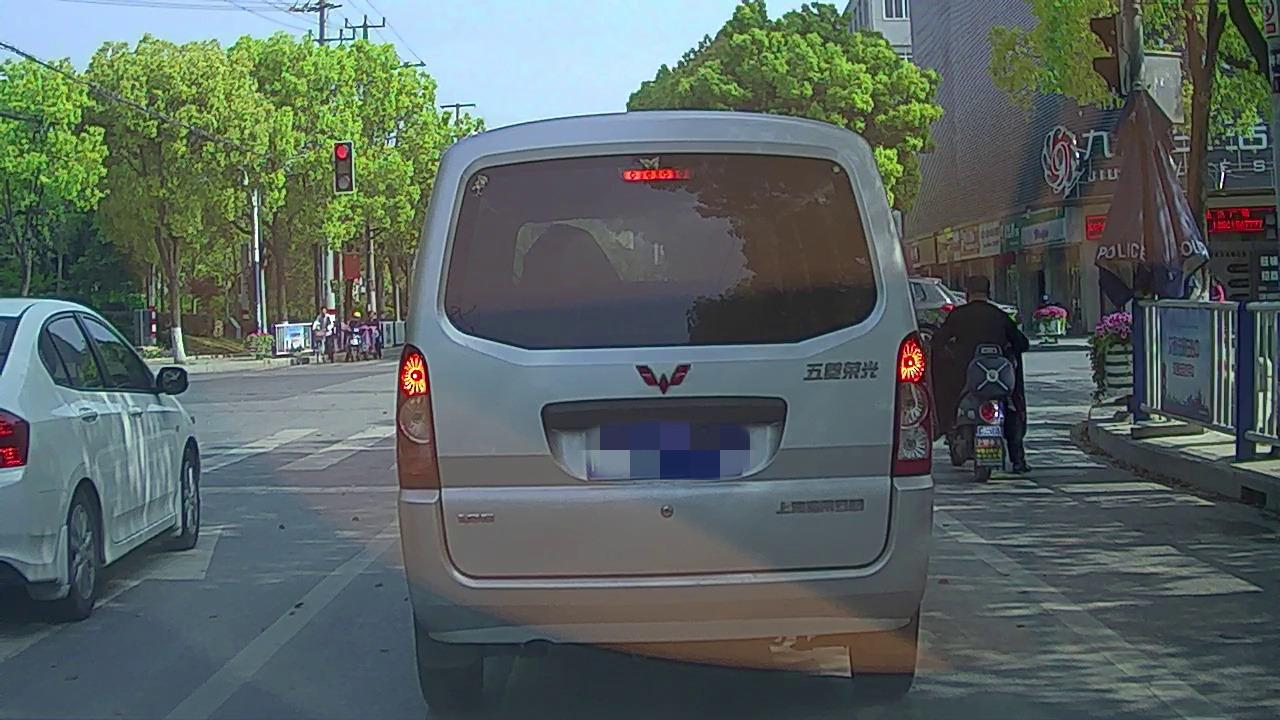traffic_light: (334, 143, 352, 192)
